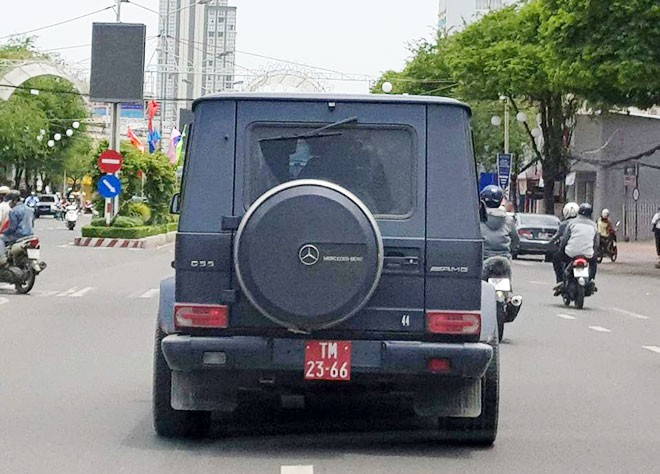plate: (304, 337, 352, 382)
